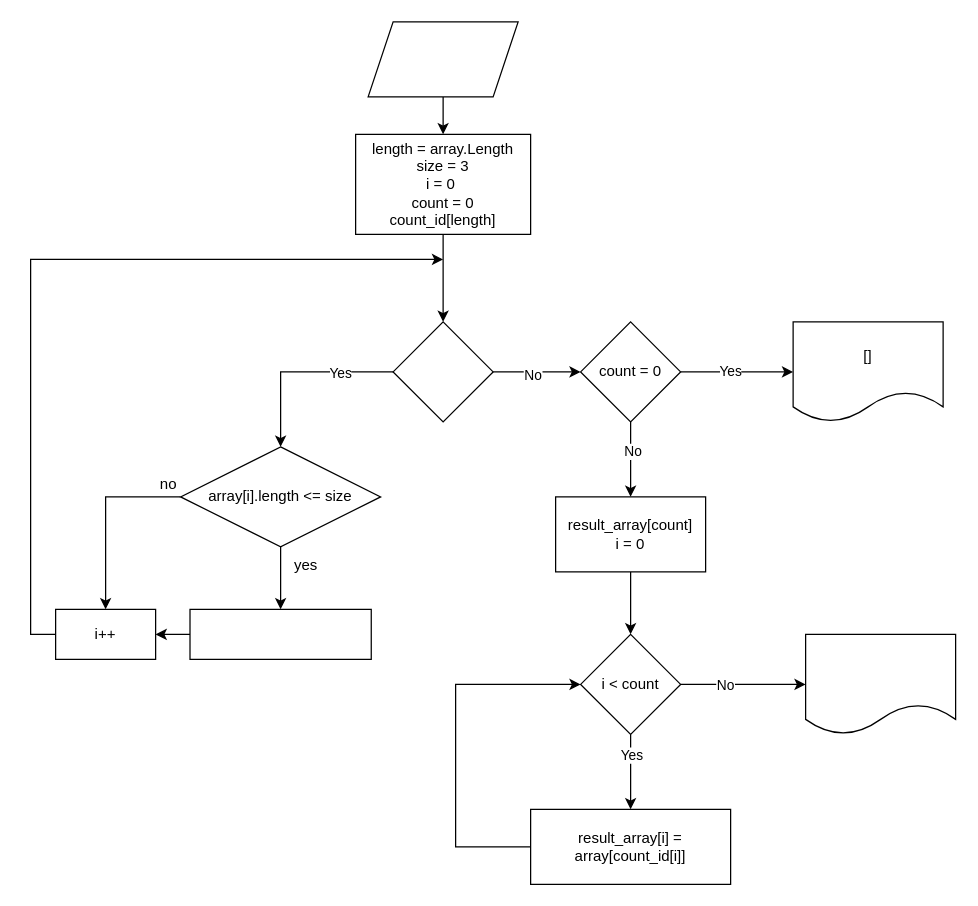
Some shapes in this 978 by 906 pixel diagram are drawn without their labels. Each missing label, with the centre of its shape:
array[]: the point at 442,59
count_id[count] = i count++: the point at 280,633
i < length: the point at 442,371
result _array: the point at 880,683
